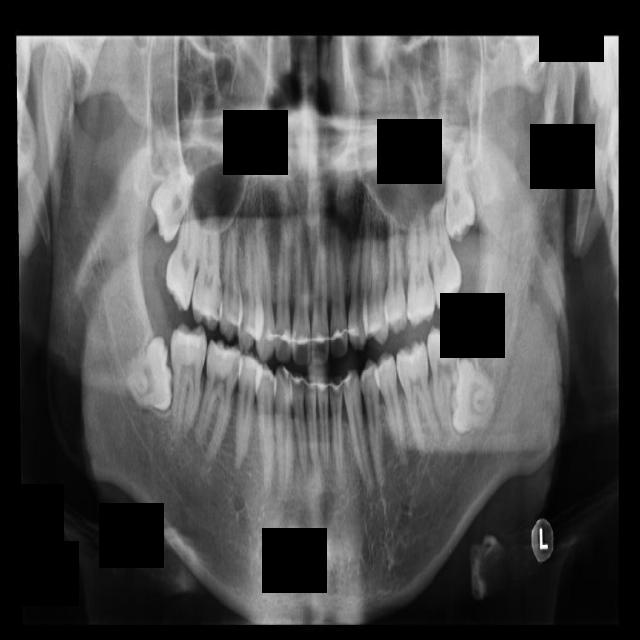3M ESPE Implant: (139, 159, 203, 244)
73: (570, 559, 578, 580)
BioHorizons Implant: (427, 198, 465, 312)
BioLife Implant: (445, 130, 477, 242)
Biomet 3i Implant: (450, 355, 499, 438)
Blue Sky Bio Implant: (426, 322, 467, 435)
Caries: (175, 203, 202, 312), (164, 226, 181, 301)
Implant: (162, 322, 208, 438)
Keystone Dental Implant: (127, 337, 174, 411)
